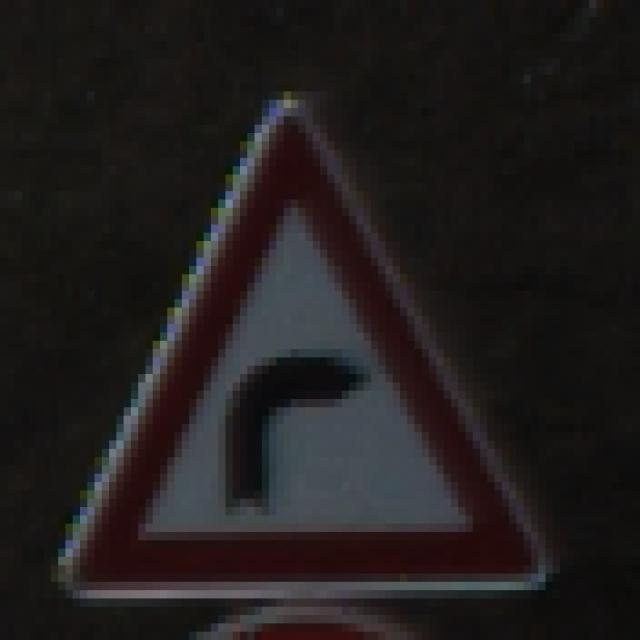right hand curve: (59, 94, 527, 590)
